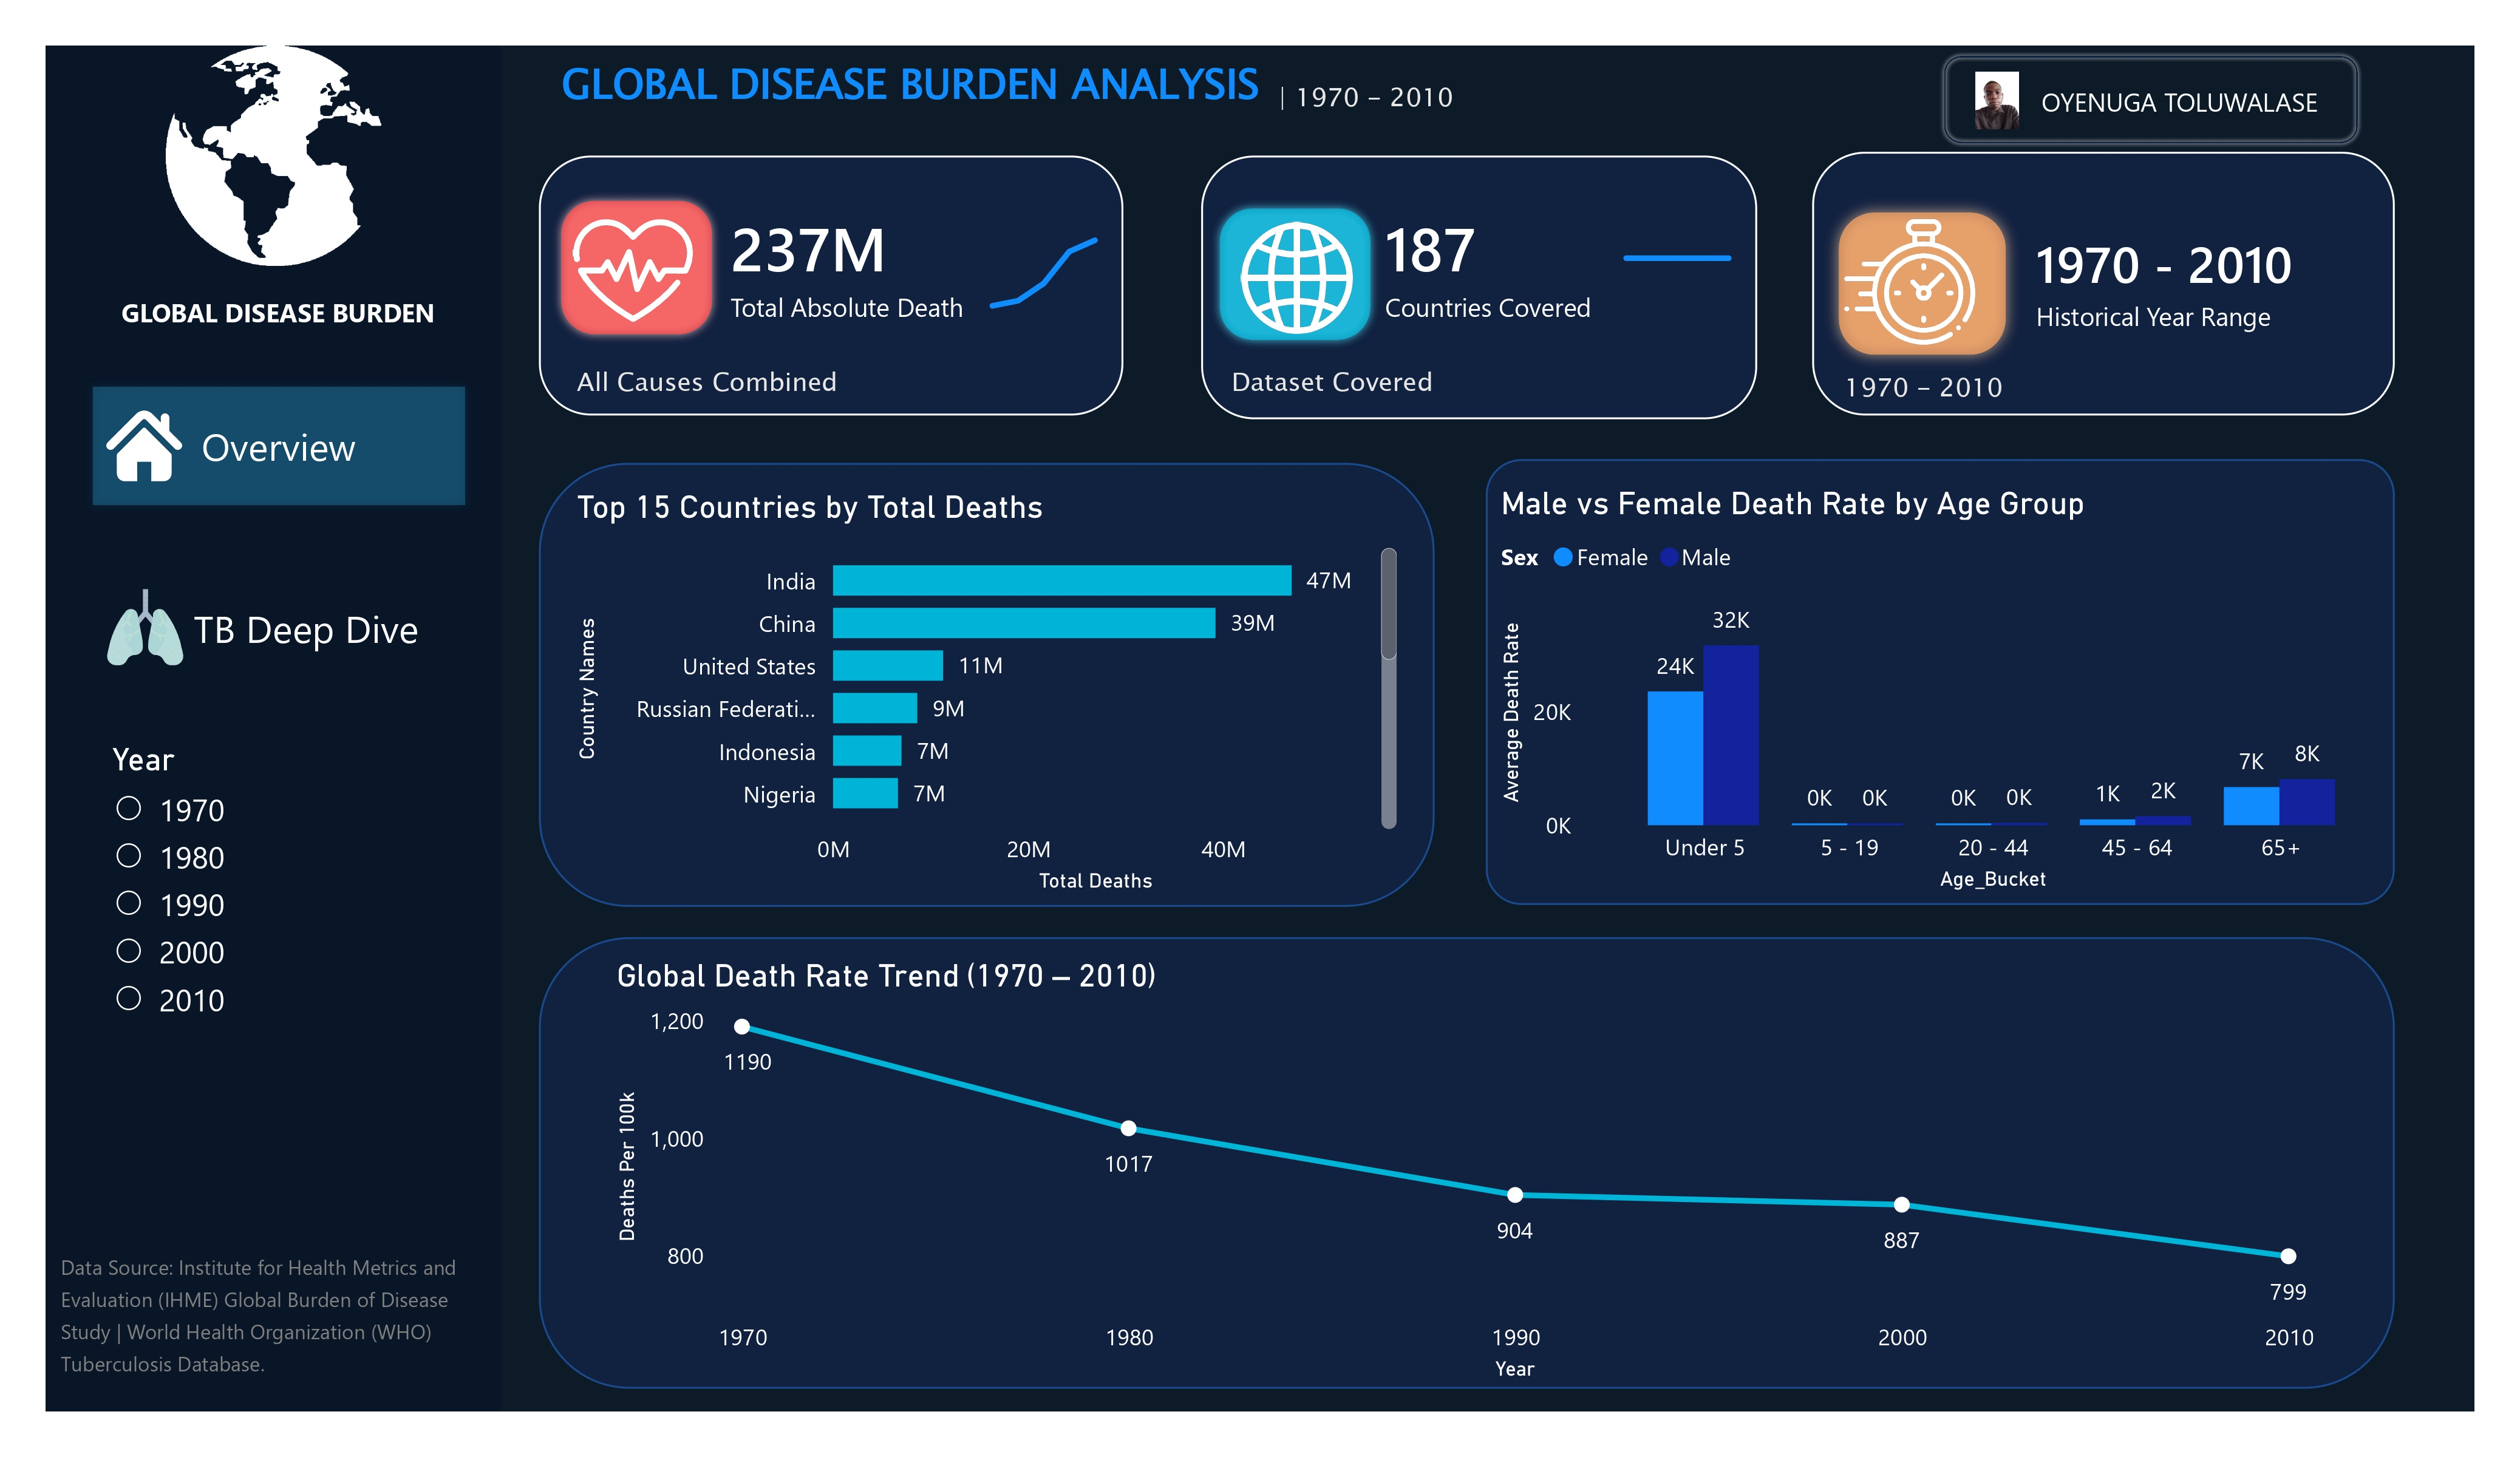

The page's visual inventory and layout, read from the dashboard file:
{"tool":"powerbi","page":{"name":"Page 1","canvas":[1280,720],"ordinal":0},"visuals":[{"type":"shape","box":[931.1,56.4,306.5,138.8],"z":0},{"type":"shape","box":[936.9,79.5,104.1,91.1],"z":1000},{"type":"shape","box":[608.7,57.8,293.5,138.8],"z":2000},{"type":"shape","box":[614.5,81,88.2,79.5],"z":3000},{"type":"shape","box":[759,218.3,478.6,234.2],"z":4000},{"type":"clusteredColumnChart","title":"Male vs Female Death Rate by Age Group","fields":{"Y":["Avg(DBschema GlobalBurdenOfDisease.Death_Rate_Per_100k)"],"Series":["DBschema GlobalBurdenOfDisease.Sex"],"Category":["Age_Dimension.Age_Bucket"]},"box":[762.5,231.2,481.7,218.8],"z":5000},{"type":"shape","box":[260.2,57.8,308,137.3],"z":6000},{"type":"shape","box":[267,77.1,89.5,79.8],"z":7000},{"type":"shape","box":[0,0,240,720],"z":8000},{"type":"shape","box":[260.2,219.8,471.3,234.2],"z":9000},{"type":"shape","box":[260.2,469.9,977.3,238.6],"z":10000},{"type":"cardVisual","fields":{"Data":["_Measures.Countries Covered"]},"box":[682.4,59.3,203.9,111.3],"z":11000},{"type":"cardVisual","fields":{"Data":["_Measures.Total Absolute Death"]},"box":[336.9,59.3,203.9,111.3],"z":12000},{"type":"cardVisual","fields":{"Data":["_Measures.Historical Year Range"]},"box":[1025.4,67.4,254.6,111.5],"z":13000},{"type":"clusteredBarChart","title":"Top 15 Countries by Total Deaths","fields":{"Y":["Sum(DBschema GlobalBurdenOfDisease.Number_of_Deaths)"],"Category":["DBschema GlobalBurdenOfDisease.Country_Name"]},"box":[274.7,232.8,442.4,218.3],"z":14000},{"type":"lineChart","title":"Global Death Rate Trend (1970 – 2010)","fields":{"Category":["DBschema GlobalBurdenOfDisease.Year"],"Y":["Avg(DBschema GlobalBurdenOfDisease.Death_Rate_Per_100k)"]},"box":[296.4,480,903.6,228.4],"z":15000},{"type":"textbox","box":[267.5,0,495.9,44.8],"z":16000},{"type":"textbox","box":[640.5,11.6,122.9,33.3],"z":17000},{"type":"image","box":[627.5,92.5,63.6,59.3],"z":18000},{"type":"image","box":[277.6,76.6,63.6,82.4],"z":19000},{"type":"image","box":[945.5,89.6,73.7,69.4],"z":20000},{"type":"lineChart","fields":{"Category":["DBschema GlobalBurdenOfDisease.Year"],"Y":["_Measures.Total Absolute Death"]},"box":[484.3,79.5,83.9,75.2],"z":21000},{"type":"lineChart","fields":{"Category":["DBschema GlobalBurdenOfDisease.Year"],"Y":["_Measures.Countries Covered"]},"box":[818.3,75.2,83.9,75.2],"z":22000},{"type":"image","box":[31.8,0,174.9,115.7],"z":23000},{"type":"textbox","box":[34.7,127.2,205.3,37.6],"z":24000},{"type":"actionButton","box":[20.2,174.9,205.3,72.3],"z":25000},{"type":"actionButton","box":[34.7,270.4,205.3,72.3],"z":26000},{"type":"textbox","box":[274.7,161.9,164.8,33.3],"z":27000},{"type":"textbox","box":[620.2,161.9,164.8,33.3],"z":28000},{"type":"textbox","box":[942.7,164.8,164.8,33.3],"z":29000},{"type":"image","box":[20.2,190.8,63.6,40.5],"z":30000},{"type":"image","box":[30.4,284.8,43.4,43.4],"z":31000},{"type":"textbox","box":[1046.9,15.6,164.8,28.9],"z":32000},{"type":"image","box":[1000.6,13.8,55.1,30.3],"z":33000},{"type":"shape","box":[997.8,2.8,223,50.9],"z":34000},{"type":"textbox","box":[2.9,628.9,240,91.1],"z":35000},{"type":"listSlicer","fields":{"Values":["DBschema GlobalBurdenOfDisease.Year"]},"box":[30,365.7,164.3,228.6],"z":36000}]}

Visuals, with their boxes on the page's 1280x720 design canvas (x1, y1, x2, y2). These are canvas units, not pixel positions in the 2520x1457 screenshot, which may show the page scaled, cropped or inside an application window:
shape: crop(931, 56, 1238, 195)
shape: crop(937, 80, 1041, 171)
shape: crop(609, 58, 902, 197)
shape: crop(614, 81, 703, 160)
shape: crop(759, 218, 1238, 452)
"Male vs Female Death Rate by Age Group" clusteredColumnChart: crop(762, 231, 1244, 450)
shape: crop(260, 58, 568, 195)
shape: crop(267, 77, 356, 157)
shape: crop(0, 0, 240, 720)
shape: crop(260, 220, 732, 454)
shape: crop(260, 470, 1238, 708)
cardVisual - _Measures.Countries Covered: crop(682, 59, 886, 171)
cardVisual - _Measures.Total Absolute Death: crop(337, 59, 541, 171)
cardVisual - _Measures.Historical Year Range: crop(1025, 67, 1280, 179)
"Top 15 Countries by Total Deaths" clusteredBarChart: crop(275, 233, 717, 451)
"Global Death Rate Trend (1970 – 2010)" lineChart: crop(296, 480, 1200, 708)
textbox: crop(268, 0, 763, 45)
textbox: crop(640, 12, 763, 45)
image: crop(628, 92, 691, 152)
image: crop(278, 77, 341, 159)
image: crop(946, 90, 1019, 159)
lineChart - DBschema GlobalBurdenOfDisease.Year x _Measures.Total Absolute Death: crop(484, 80, 568, 155)
lineChart - DBschema GlobalBurdenOfDisease.Year x _Measures.Countries Covered: crop(818, 75, 902, 150)
image: crop(32, 0, 207, 116)
textbox: crop(35, 127, 240, 165)
actionButton: crop(20, 175, 226, 247)
actionButton: crop(35, 270, 240, 343)
textbox: crop(275, 162, 440, 195)
textbox: crop(620, 162, 785, 195)
textbox: crop(943, 165, 1108, 198)
image: crop(20, 191, 84, 231)
image: crop(30, 285, 74, 328)
textbox: crop(1047, 16, 1212, 44)
image: crop(1001, 14, 1056, 44)
shape: crop(998, 3, 1221, 54)
textbox: crop(3, 629, 243, 720)
listSlicer - DBschema GlobalBurdenOfDisease.Year: crop(30, 366, 194, 594)
